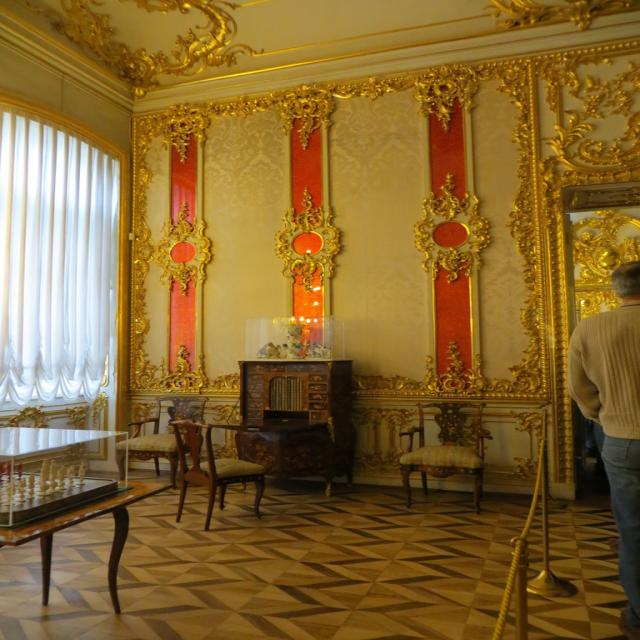Chair: (396, 402, 494, 514), (170, 420, 267, 530), (114, 392, 205, 476)
